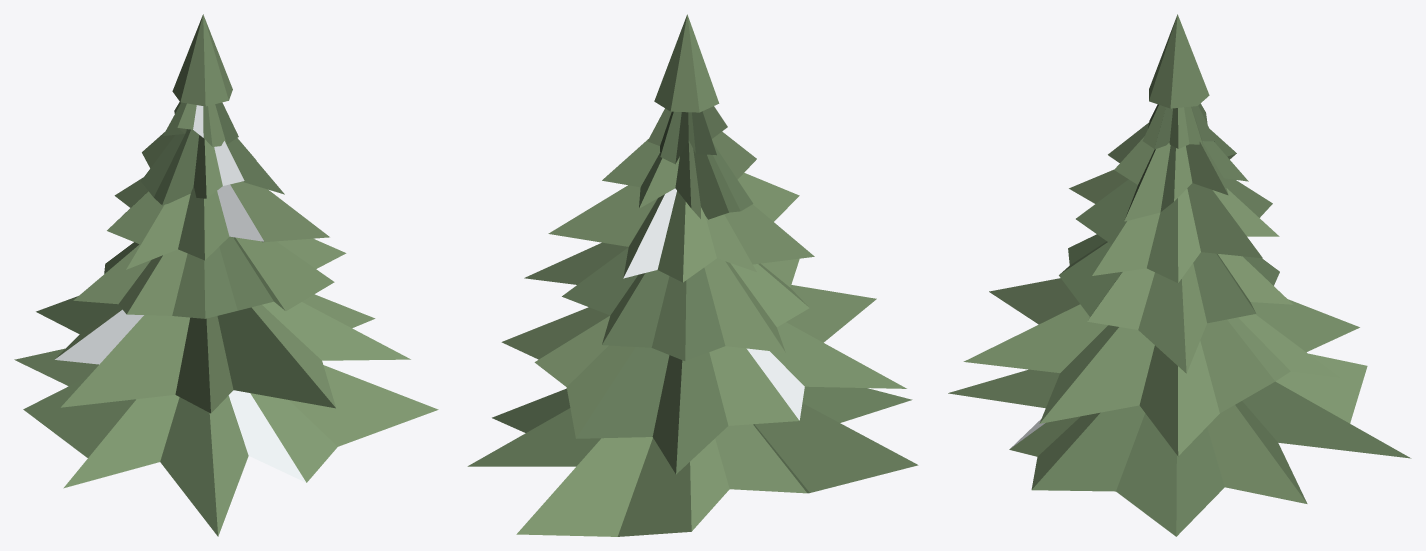
Rendered from tree_evergreen.glb.
3 views of the same model, side by side, from view 1: azimuth 30°, elevation 25°; view 2: azimuth 150°, elevation 25°; view 3: azimuth 270°, elevation 25° (orthographic). The views are drawn at different scales.
Parts seen in each view (by area): view 1: tree_evergreen; view 2: tree_evergreen; view 3: tree_evergreen.
Boxes of the visible parts, left/top/right/bottom form: tree_evergreen: left=14, top=14, right=438, bottom=536; tree_evergreen: left=467, top=14, right=918, bottom=536; tree_evergreen: left=948, top=14, right=1411, bottom=536.
Bounding box in the file's own units: 4.27 × 4.8 × 4.65.
